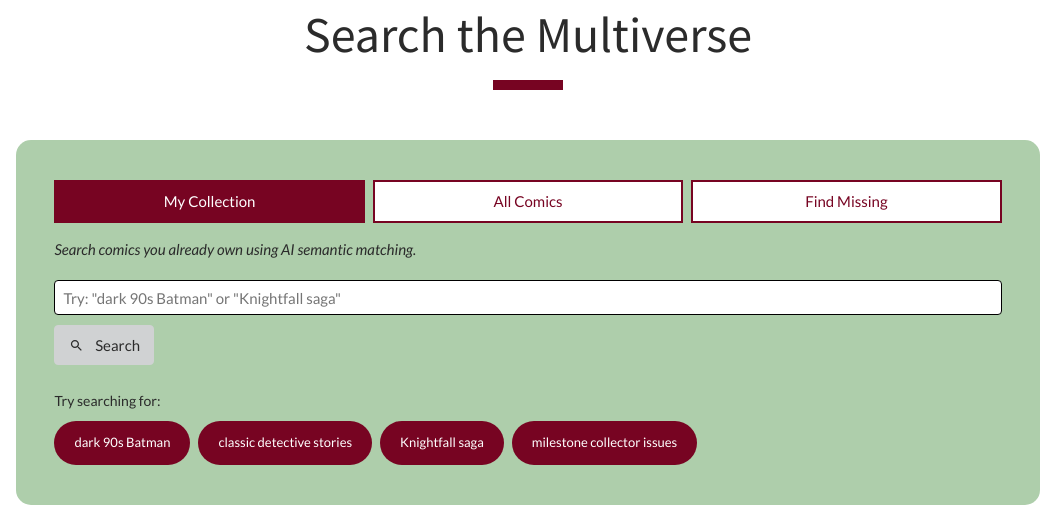
Scenario: Collection search when the AI service is unavailable › explains that only collection search is down, instead of a connection error
This screenshot has width=1057, height=522.
Type "Batman" into the field named "Search comics".
click(528, 298); type("Batman")  # box x1=54 y1=280 x2=1002 y2=315
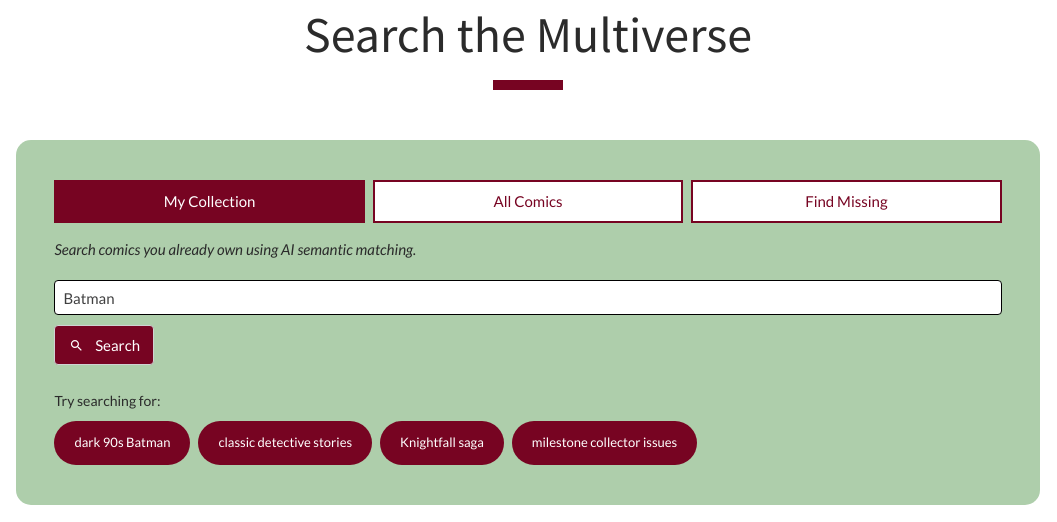
Click the button "Search".
click(104, 345)  # box x1=54 y1=325 x2=154 y2=365
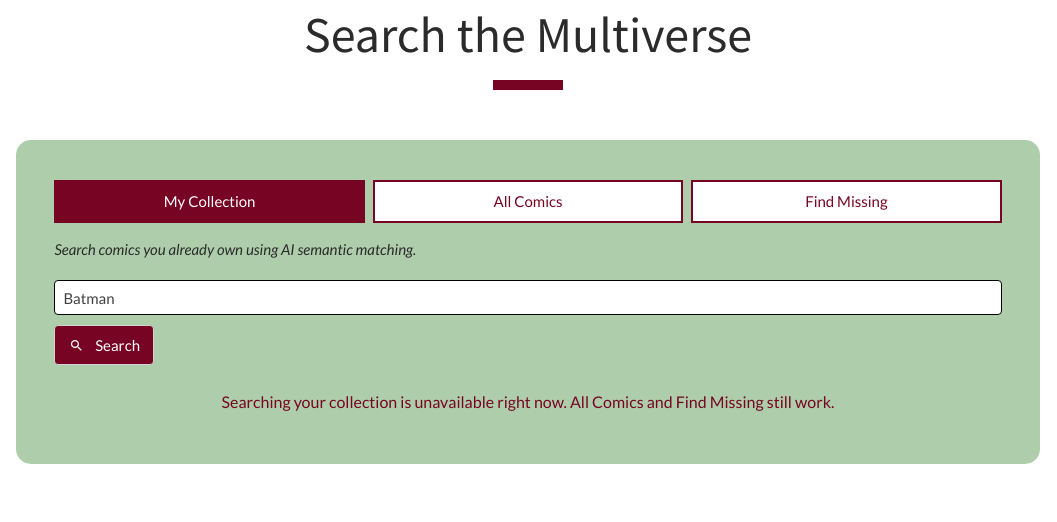
Result: the text "Searching your collection is unavailable right now" is shown at x1=222 y1=392 x2=834 y2=411
